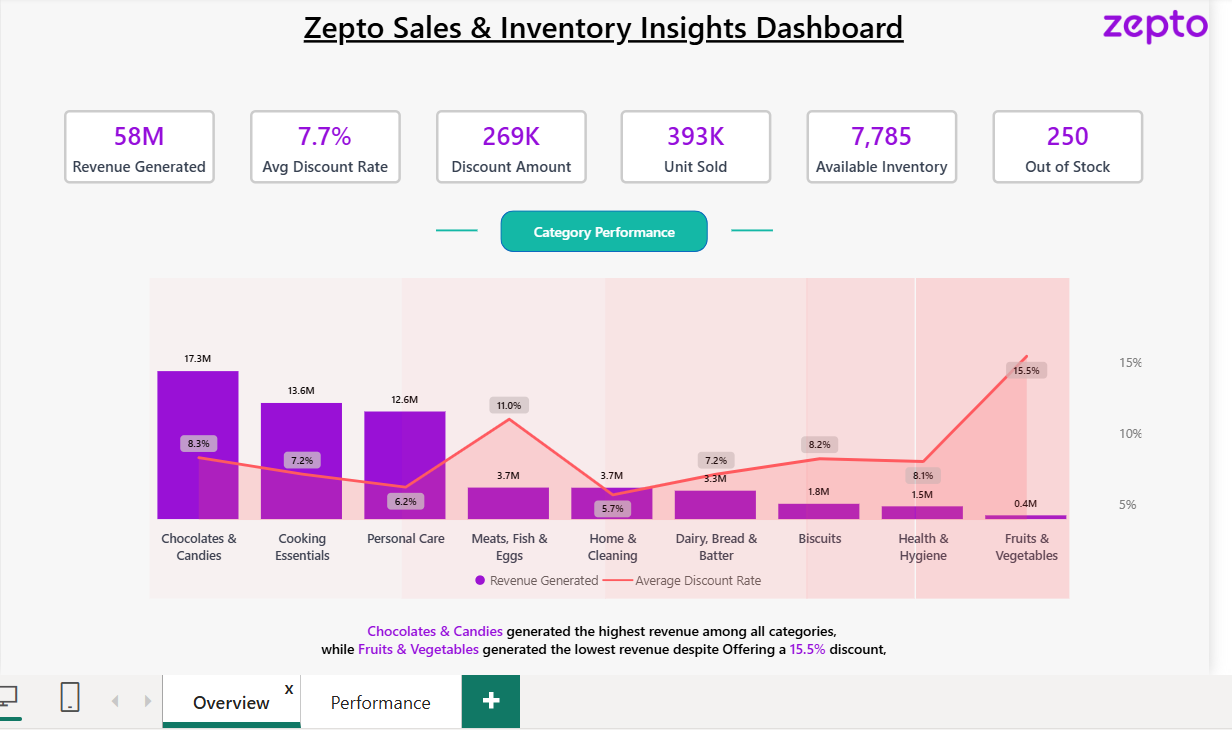

What the dashboard file says about the page in this screenshot:
{"tool":"powerbi","page":{"name":"Overview","canvas":[1280,720],"ordinal":0},"visuals":[{"type":"shape","box":[157.3,299.1,266.5,340.2],"z":0,"group":"g2"},{"type":"card","fields":{"Values":["zepto.avg discount %"]},"box":[263.6,120.5,160,78],"z":1000},{"type":"shape","box":[530.1,226.8,219.7,43.9],"z":1000,"group":"g1"},{"type":"card","fields":{"Values":["zepto.total quantity sold"]},"box":[657.7,120.5,160,78],"z":2000},{"type":"card","fields":{"Values":["zepto.total revenue"]},"box":[66.6,120.5,160,78],"z":3000},{"type":"card","fields":{"Values":["zepto.total discount selling price"]},"box":[460.6,120.5,160.2,78],"z":4000},{"type":"textbox","box":[228.2,4.3,823.5,70.9],"z":5000},{"type":"lineStackedColumnComboChart","fields":{"Y2":["zepto.avg discount %"],"Y":["zepto.total revenue"],"Category":["zepto.category"]},"box":[99.2,360,1115.4,279.2],"z":6000},{"type":"image","box":[1169.3,4.3,110.6,56.7],"z":7000},{"type":"card","fields":{"Values":["zepto.out of stock"]},"box":[1051.7,120.5,160.2,78],"z":8000},{"type":"textbox","box":[559.9,232.5,161.6,34],"z":8000,"group":"g1"},{"type":"card","fields":{"Values":["zepto.in stock"]},"box":[854.7,120.5,160,78],"z":9000},{"type":"shape","box":[460.6,219.7,43.9,58.1],"z":10000},{"type":"shape","box":[773.9,219.7,43.9,58.1],"z":11000},{"type":"shape","box":[423.8,299.1,216.9,340.2],"z":12000,"group":"g2"},{"type":"shape","box":[640.6,299.1,214,340.2],"z":13000,"group":"g2"},{"type":"shape","box":[854.6,299.1,114.8,340.2],"z":14000,"group":"g2"},{"type":"shape","box":[969.4,299.1,163,340.2],"z":15000,"group":"g2"},{"type":"group","id":"g1","title":"Group 1","box":[530.1,226.8,219.7,43.9],"z":16000},{"type":"textbox","box":[157.3,656.2,963.8,63.8],"z":17000},{"type":"group","id":"g2","title":"Group 2","box":[157.3,299.1,975.1,340.2],"z":17001}]}

Visuals, with their boxes on the page's 1280x720 design canvas (x1, y1, x2, y2). These are canvas units, not pixel positions in the 1232x730 screenshot, which may show the page scaled, cropped or inside an application window:
shape: (157, 299, 424, 639)
card - zepto.avg discount %: (264, 120, 424, 198)
shape: (530, 227, 750, 271)
card - zepto.total quantity sold: (658, 120, 818, 198)
card - zepto.total revenue: (67, 120, 227, 198)
card - zepto.total discount selling price: (461, 120, 621, 198)
textbox: (228, 4, 1052, 75)
lineStackedColumnComboChart - zepto.avg discount % x zepto.total revenue: (99, 360, 1215, 639)
image: (1169, 4, 1280, 61)
card - zepto.out of stock: (1052, 120, 1212, 198)
textbox: (560, 232, 722, 266)
card - zepto.in stock: (855, 120, 1015, 198)
shape: (461, 220, 504, 278)
shape: (774, 220, 818, 278)
shape: (424, 299, 641, 639)
shape: (641, 299, 855, 639)
shape: (855, 299, 969, 639)
shape: (969, 299, 1132, 639)
"Group 1" group: (530, 227, 750, 271)
textbox: (157, 656, 1121, 720)
"Group 2" group: (157, 299, 1132, 639)
